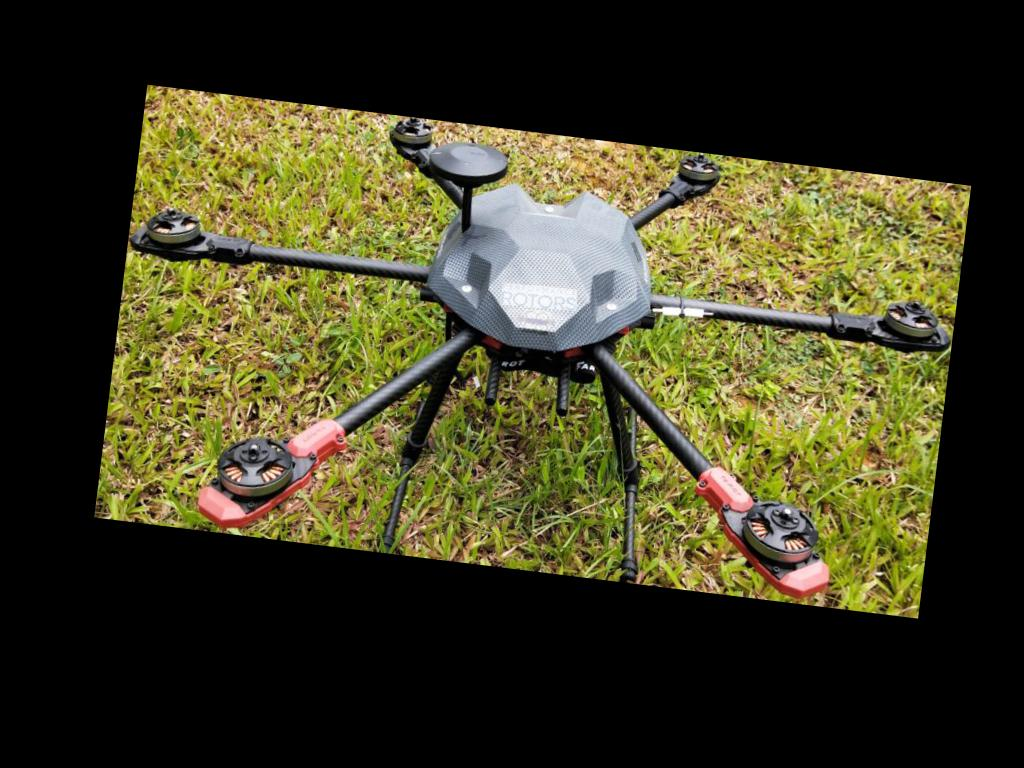drone: (78, 73, 988, 669)
